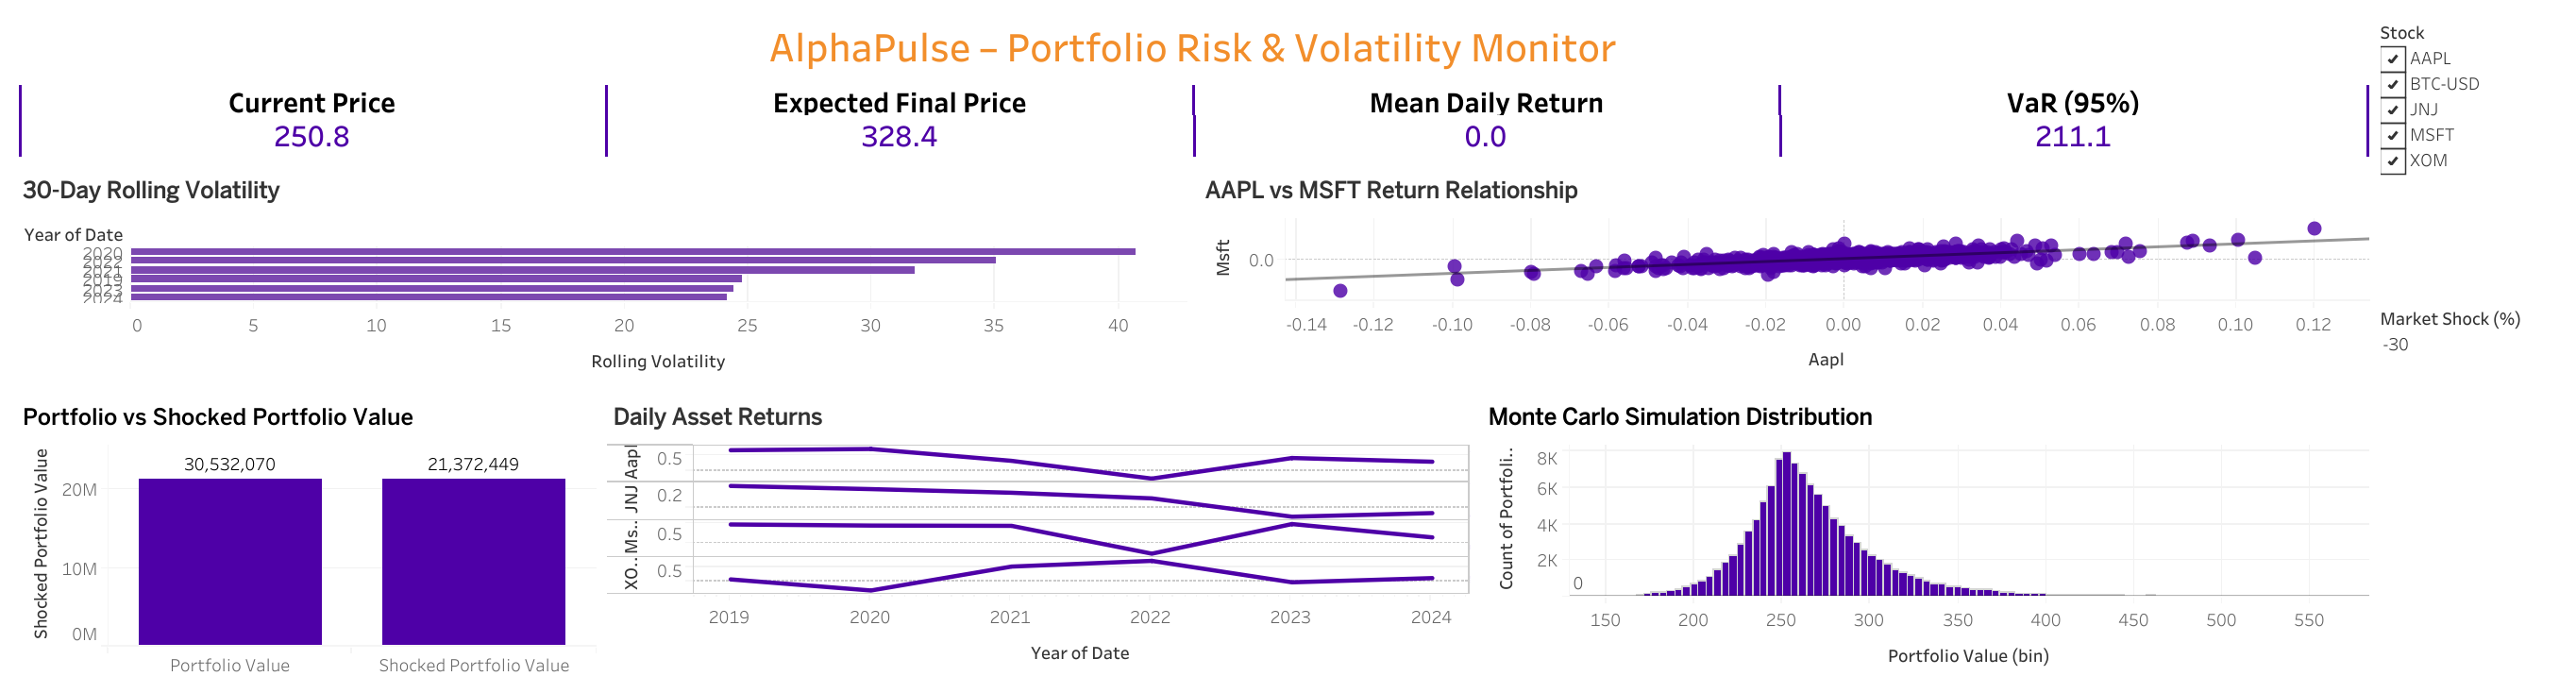

This screenshot's page, from the dashboard's own definition file:
{"tool":"tableau","page":{"name":"Dashboard 1","canvas":[1000,1000],"units":"permille","ordinal":0},"visuals":[{"type":"text","box":[4.4,9.9,917,98.9]},{"type":"filter","title":" Rolling Volatility","param":"[federated.1w2325y145vlnw17mjtt70sb9rfl].[none:Stock:nk]","box":[921.4,9.9,74.2,250.3]},{"type":"worksheet","title":"Sheet 6","mark":"Automatic","cols":["Metric"],"box":[4.4,108.8,917,120.7]},{"type":"worksheet","title":" Rolling Volatility","mark":"Bar","rows":["Date"],"cols":["Rolling_Volatility"],"box":[4.4,229.5,458.5,330.1]},{"type":"worksheet","title":"AAPL vs MSFT Return Relationship","mark":"Circle","rows":["MSFT"],"cols":["AAPL"],"box":[462.9,229.5,458.5,330.1]},{"type":"parameter","param":"[Parameters].[Parameter 1]","box":[921.4,260.2,74.2,102.9]},{"type":"worksheet","title":"what if analysis","mark":"Automatic","rows":["Calculation_92042353604194306"],"box":[4.4,559.5,229.2,430.6]},{"type":"worksheet","title":"Daily Asset Returns","mark":"Automatic","rows":["AAPL","JNJ","MSFT","XOM"],"cols":["Date"],"box":[233.7,559.5,339.2,430.6]},{"type":"worksheet","title":"Monte Carlo Distribution","mark":"Automatic","rows":["Portfolio_Value"],"cols":["Portfolio Value (bin)"],"box":[572.8,559.5,348.6,430.6]}]}

Visuals, with their boxes on the dashboard's canvas, which has no fixed pixel size, in thousandths of its width and height (x1, y1, x2, y2). These are canvas units, not pixel positions in the 2576x693 screenshot, which may show the page scaled, cropped or inside an application window:
text: 4, 10, 921, 109
" Rolling Volatility" filter: 921, 10, 996, 260
"Sheet 6" worksheet: 4, 109, 921, 230
" Rolling Volatility" worksheet (Bar marks): 4, 230, 463, 560
"AAPL vs MSFT Return Relationship" worksheet (Circle marks): 463, 230, 921, 560
parameter: 921, 260, 996, 363
"what if analysis" worksheet: 4, 560, 234, 990
"Daily Asset Returns" worksheet: 234, 560, 573, 990
"Monte Carlo Distribution" worksheet: 573, 560, 921, 990
